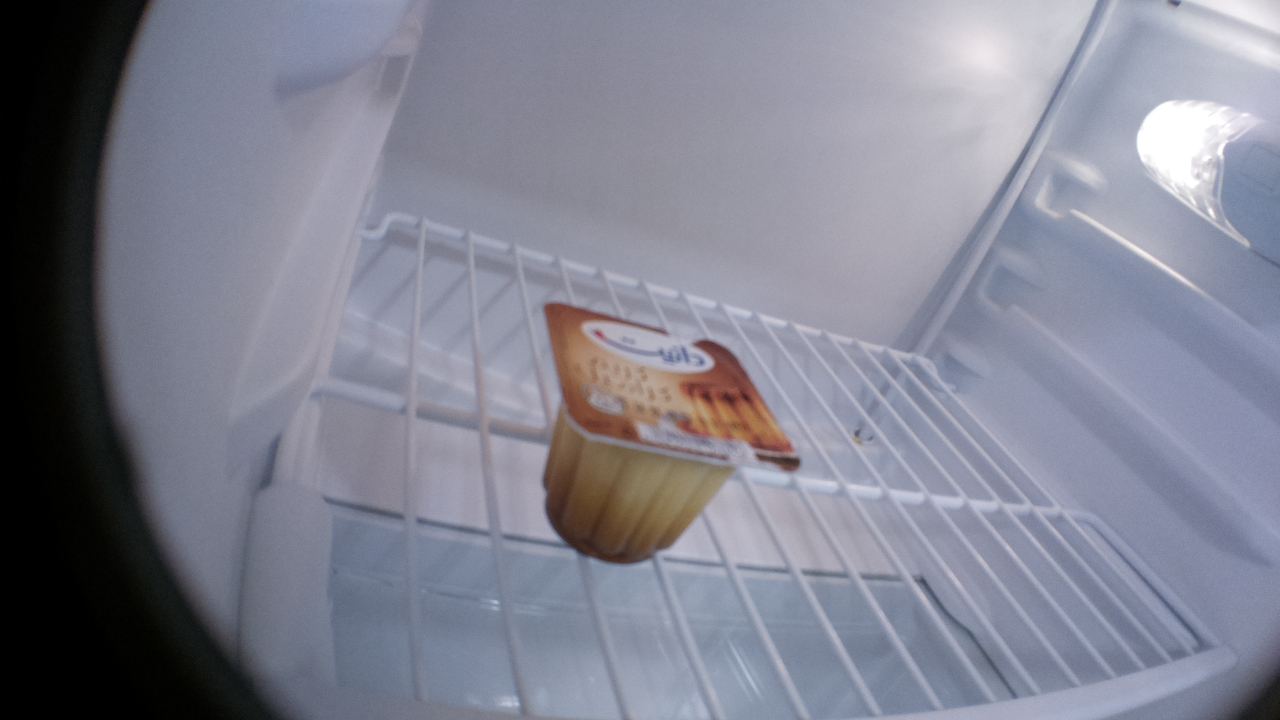caramel: (531, 294, 804, 570)
